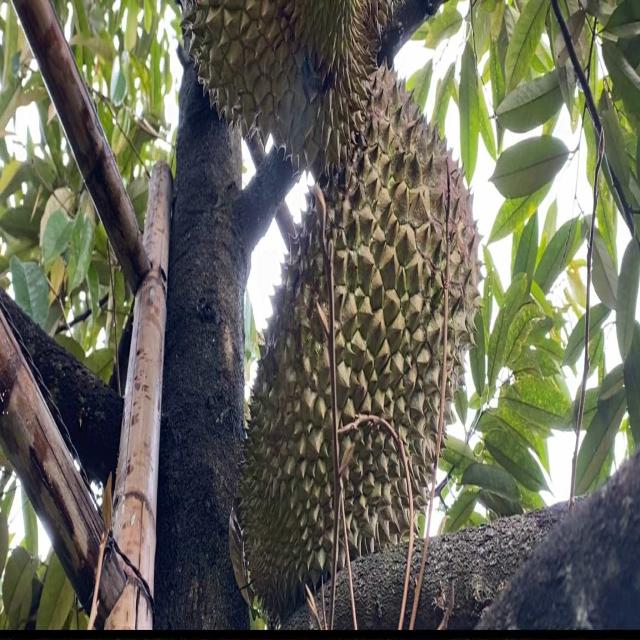RIPE: (236, 51, 482, 613)
